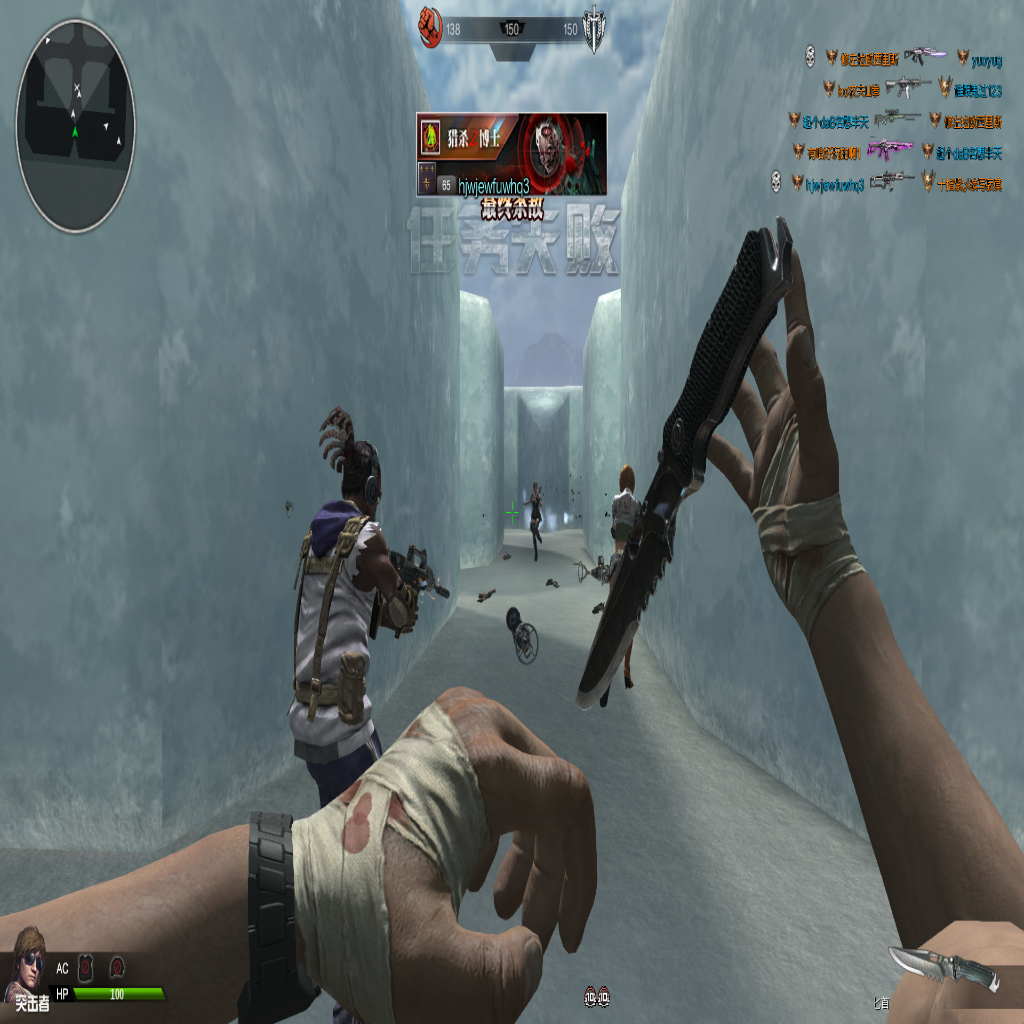ct: (525, 478, 544, 562)
tt: (281, 430, 446, 790), (610, 464, 641, 576)
